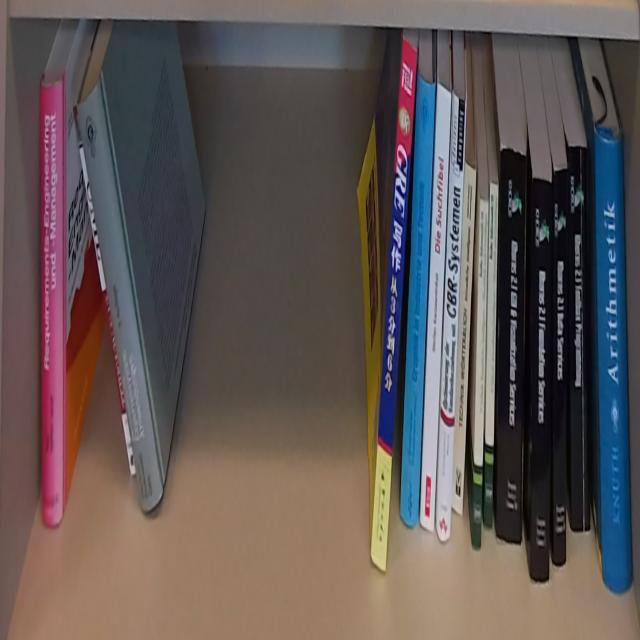Book Spine: (78, 77, 161, 515), (369, 31, 419, 576), (71, 99, 137, 477), (594, 126, 632, 596), (399, 68, 436, 524), (418, 80, 451, 538), (34, 75, 64, 537), (437, 86, 466, 546), (497, 148, 526, 547), (528, 168, 553, 586), (450, 158, 475, 517), (569, 144, 590, 531), (472, 192, 492, 556), (553, 163, 569, 566), (482, 172, 499, 535)
